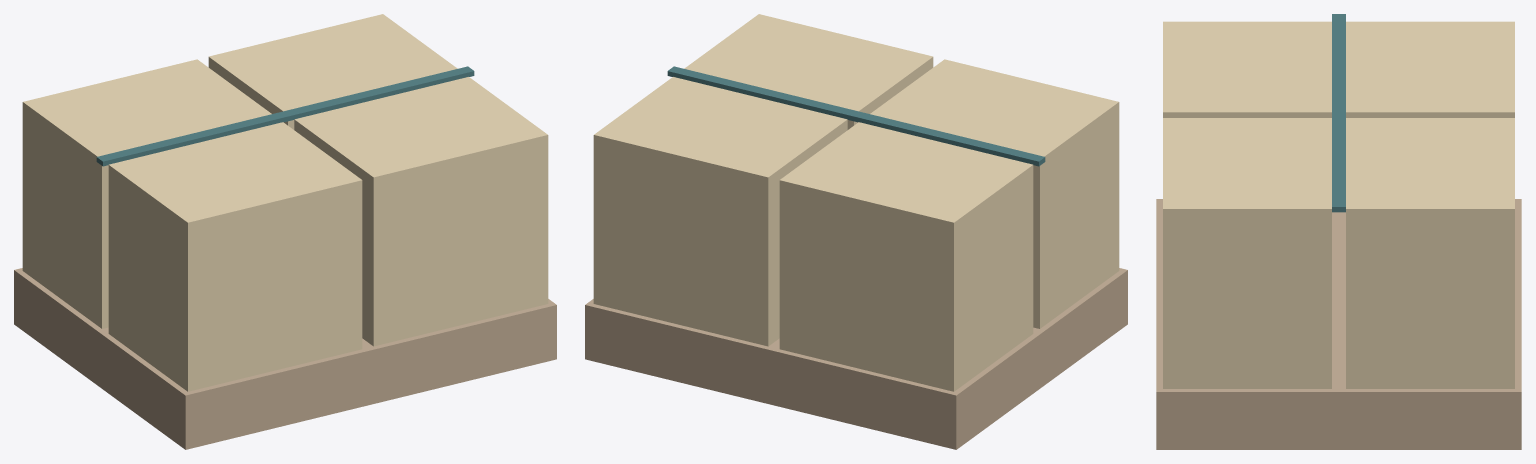
The model's file is cargo_pallet.glb.
The picture shows the model from 3 angles, left to right: view 1: azimuth 30°, elevation 25°; view 2: azimuth 150°, elevation 25°; view 3: azimuth 270°, elevation 25°; orthographic projection. The views are drawn at different scales.
Visible parts, largest first — view 1: cargo_pallet__parcel, cargo_pallet__parcel.002, cargo_pallet__pallet, cargo_pallet__parcel.001, cargo_pallet__parcel.003, cargo_pallet__strap; view 2: cargo_pallet__parcel.001, cargo_pallet__parcel.003, cargo_pallet__pallet, cargo_pallet__parcel, cargo_pallet__parcel.002, cargo_pallet__strap; view 3: cargo_pallet__parcel.002, cargo_pallet__parcel.003, cargo_pallet__pallet, cargo_pallet__parcel, cargo_pallet__parcel.001, cargo_pallet__strap.
Part boxes in pixels (x1=…): cargo_pallet__parcel: x1=108, y1=122, x2=362, y2=391; cargo_pallet__parcel.002: x1=294, y1=77, x2=548, y2=346; cargo_pallet__pallet: x1=14, y1=268, x2=556, y2=449; cargo_pallet__parcel.001: x1=22, y1=59, x2=271, y2=328; cargo_pallet__parcel.003: x1=208, y1=14, x2=457, y2=129; cargo_pallet__strap: x1=96, y1=66, x2=474, y2=166; cargo_pallet__parcel.001: x1=779, y1=122, x2=1033, y2=391; cargo_pallet__parcel.003: x1=593, y1=77, x2=847, y2=346; cargo_pallet__pallet: x1=585, y1=268, x2=1127, y2=449; cargo_pallet__parcel: x1=870, y1=59, x2=1119, y2=328; cargo_pallet__parcel.002: x1=684, y1=14, x2=933, y2=129; cargo_pallet__strap: x1=667, y1=66, x2=1045, y2=166; cargo_pallet__parcel.002: x1=1163, y1=118, x2=1331, y2=388; cargo_pallet__parcel.003: x1=1346, y1=118, x2=1514, y2=388; cargo_pallet__pallet: x1=1156, y1=199, x2=1521, y2=449; cargo_pallet__parcel: x1=1163, y1=21, x2=1331, y2=117; cargo_pallet__parcel.001: x1=1346, y1=21, x2=1514, y2=117; cargo_pallet__strap: x1=1332, y1=14, x2=1345, y2=212.
Size of the model in its own units: 2 by 1.17 by 1.6.
